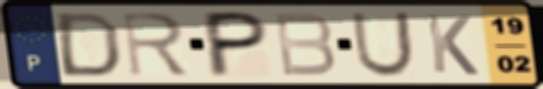B: (270, 11, 339, 79)
D: (55, 10, 124, 79)
K: (422, 12, 482, 78)
P: (204, 9, 272, 80)
R: (118, 10, 193, 79)
U: (348, 10, 418, 79)
